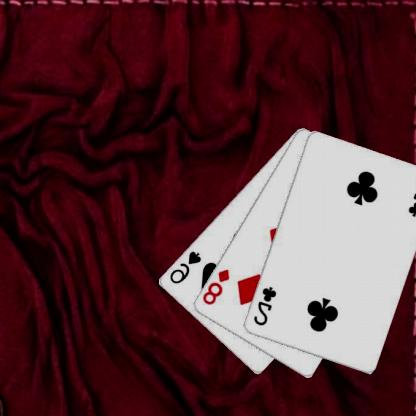2C: (252, 284, 279, 327), (407, 176, 416, 218)
8D: (201, 266, 233, 306)
9S: (168, 248, 204, 285)
